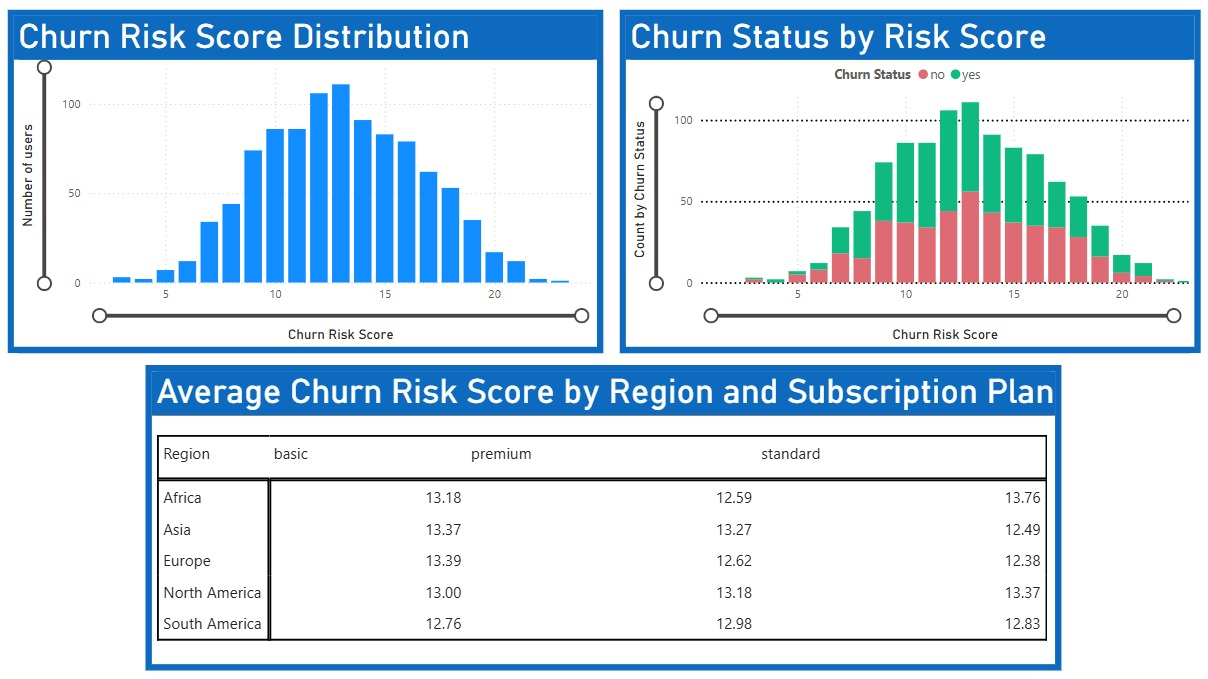

Layout of this report page (visuals, bound fields, positions):
{"tool":"powerbi","page":{"name":"Churn Risk Model","canvas":[1280,720],"ordinal":4},"visuals":[{"type":"clusteredColumnChart","title":"Churn Risk Score Distribution","fields":{"Category":["complete_sql_dataset 1.Churn Risk Score"],"Y":["CountNonNull(complete_sql_dataset 1.user_id)"]},"box":[13.9,13.9,625.4,360.6],"z":0},{"type":"columnChart","title":"Churn Status by Risk Score","fields":{"Y":["CountNonNull(complete_sql_dataset 1.Churn Status)"],"Series":["complete_sql_dataset 1.Churn Status"],"Category":["complete_sql_dataset 1.Churn Risk Score"]},"box":[656.7,13.9,609.7,360.6],"z":1000},{"type":"pivotTable","title":"Average Churn Risk Score by Region and Subscription Plan","fields":{"Rows":["complete_sql_dataset 1.Region"],"Columns":["complete_sql_dataset 1.Subscription Plan"],"Values":["Avg(complete_sql_dataset 1.Churn Risk Score)"]},"box":[158.5,386.7,961.6,320.5],"z":1001}]}

Visuals, with their boxes in screenshot pixels (x1, y1, x2, y2), scaled from the page's 1280x720 canvas onto the 1208x679 screenshot:
"Churn Risk Score Distribution" clusteredColumnChart: <box>13,13,603,353</box>
"Churn Status by Risk Score" columnChart: <box>620,13,1195,353</box>
"Average Churn Risk Score by Region and Subscription Plan" pivotTable: <box>150,365,1057,667</box>
